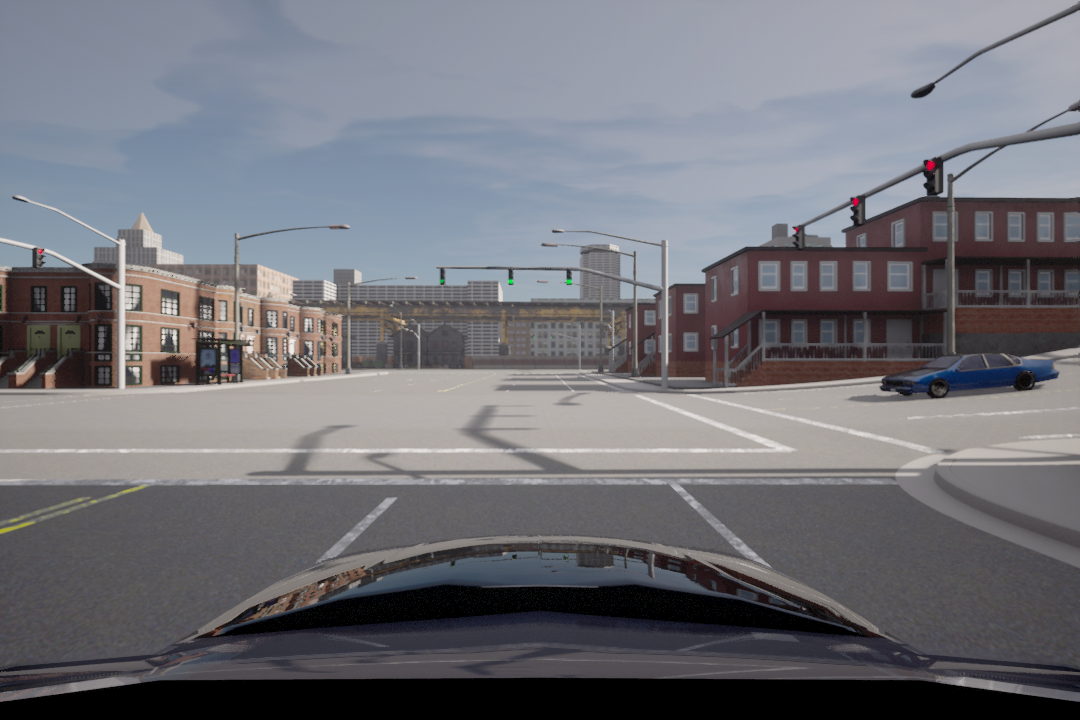TrafficLight: (920, 155, 949, 203), (849, 193, 868, 225), (790, 225, 807, 254), (30, 244, 47, 270), (436, 264, 449, 287), (564, 267, 575, 290), (507, 265, 515, 287)
